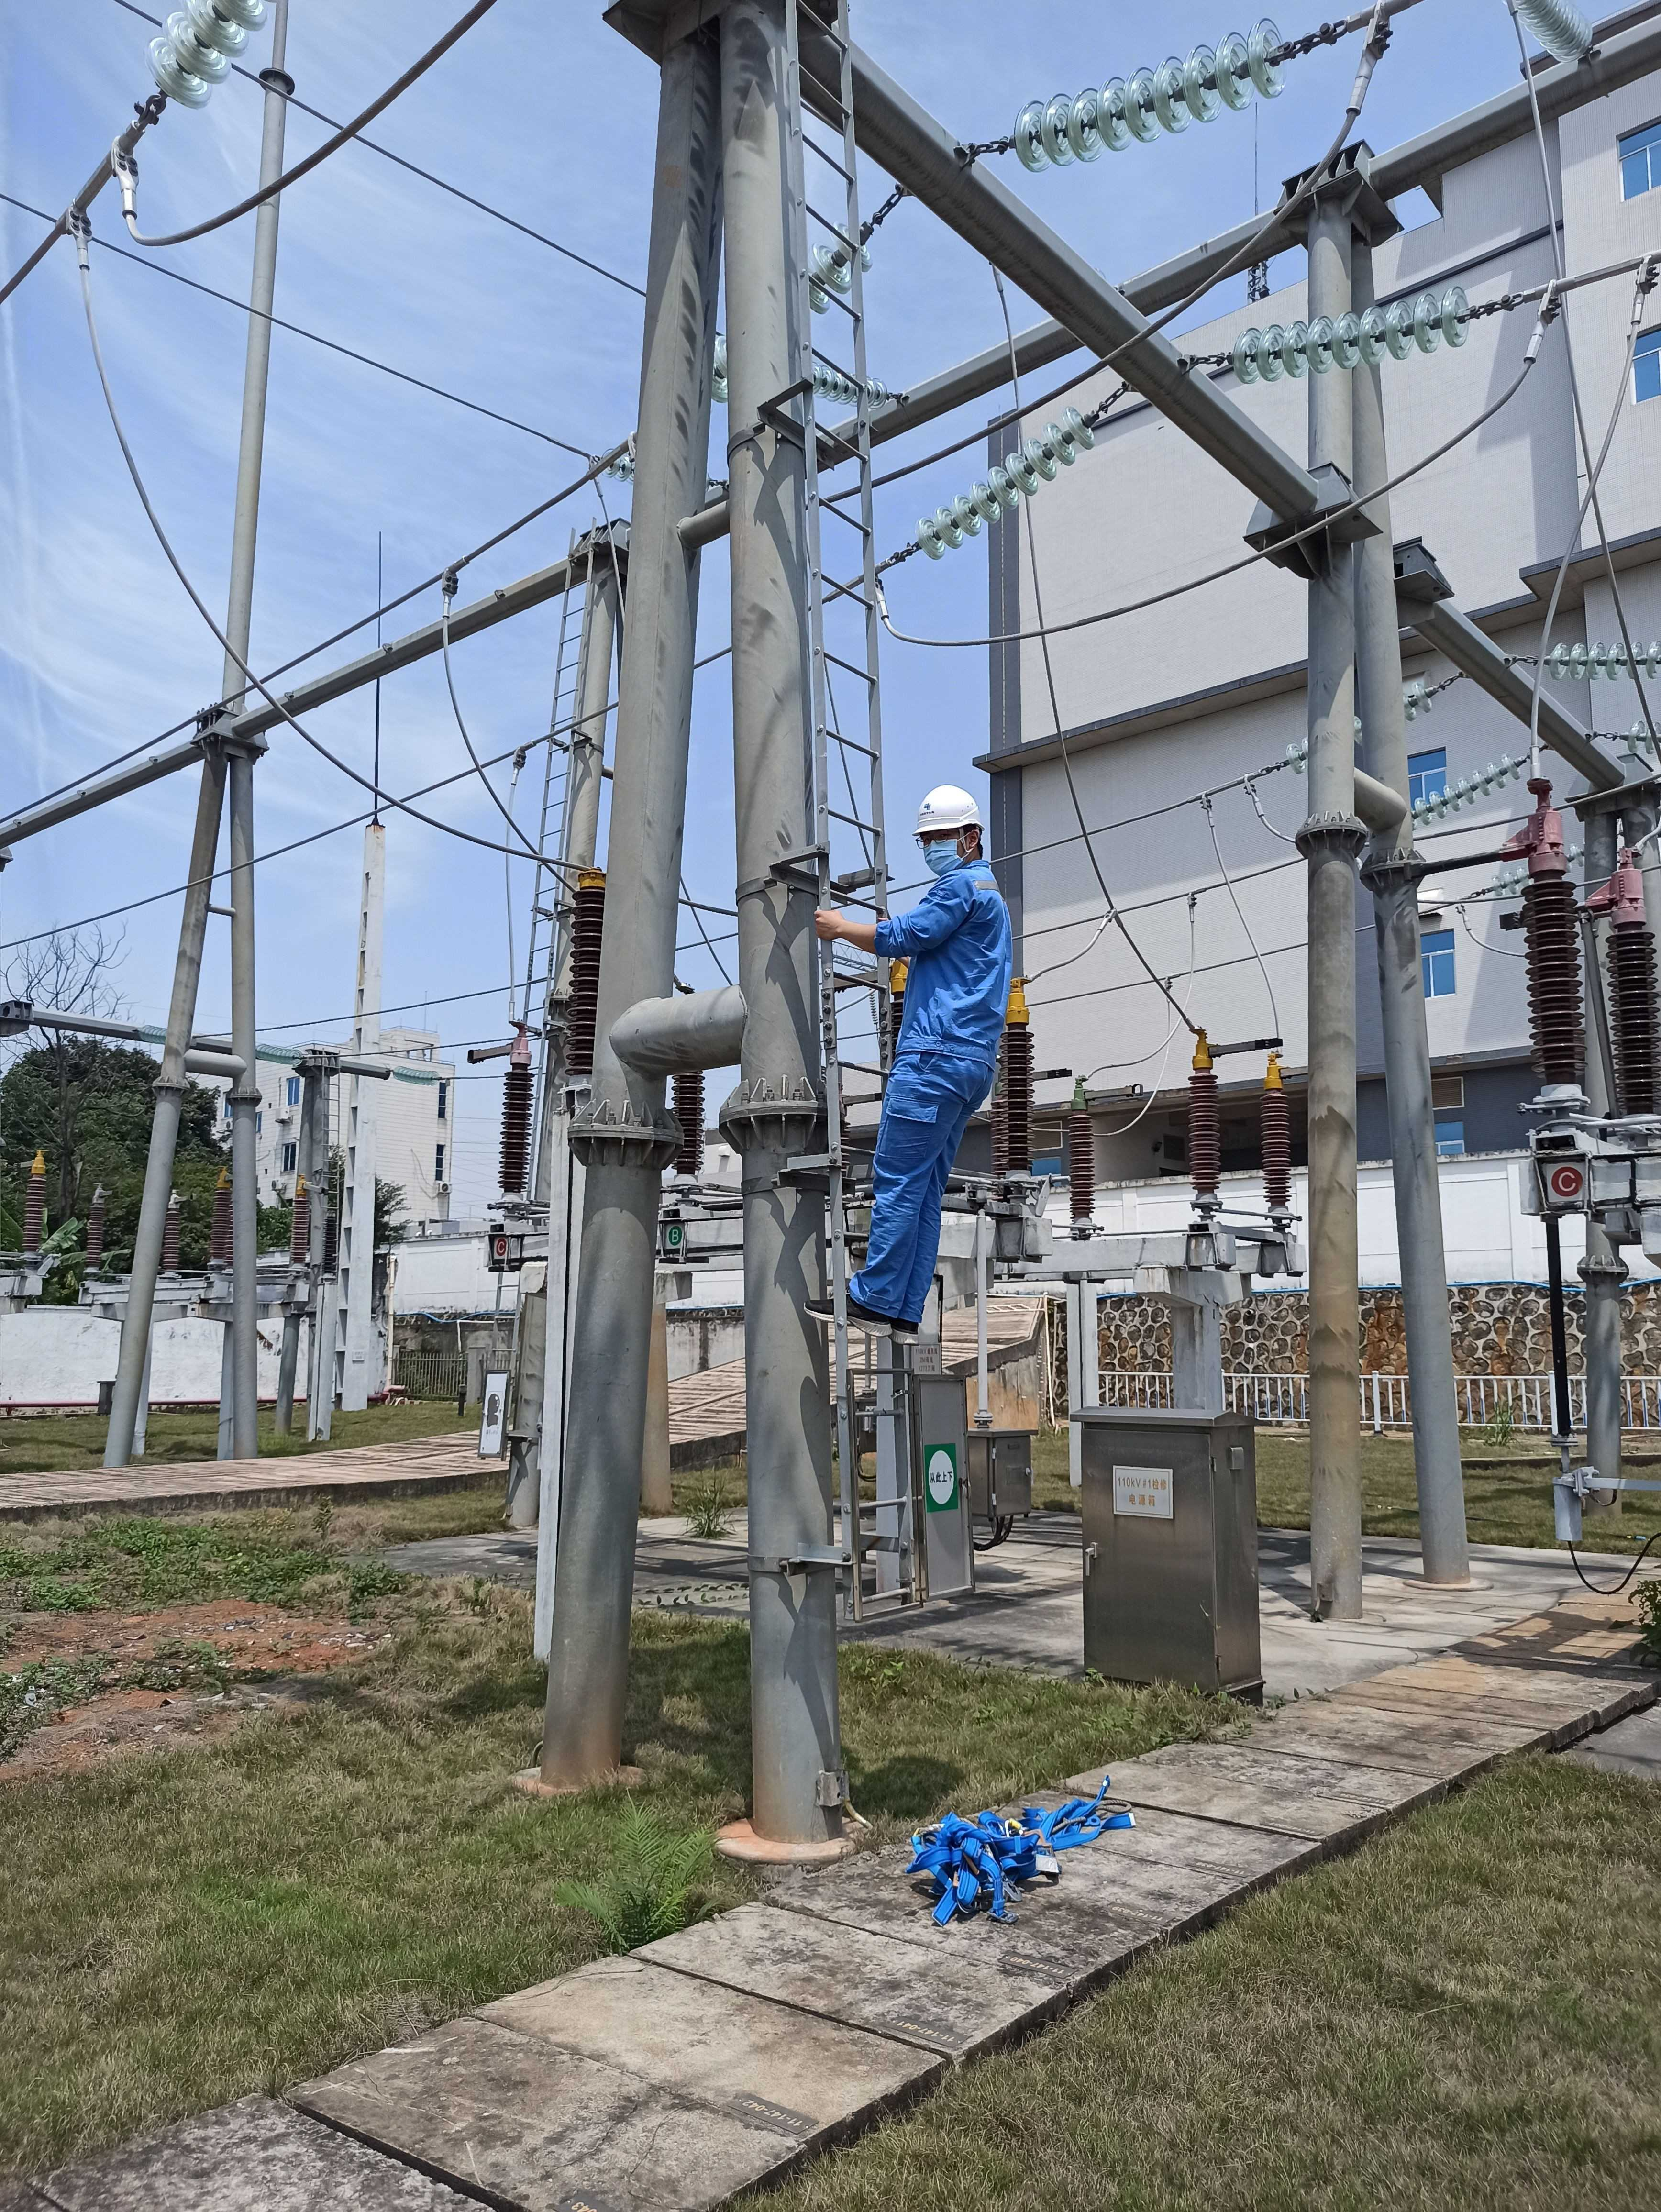downsuit: (862, 1068, 1012, 1312)
upsuit: (860, 855, 1036, 1059)
wrongtop: (818, 902, 913, 965)
